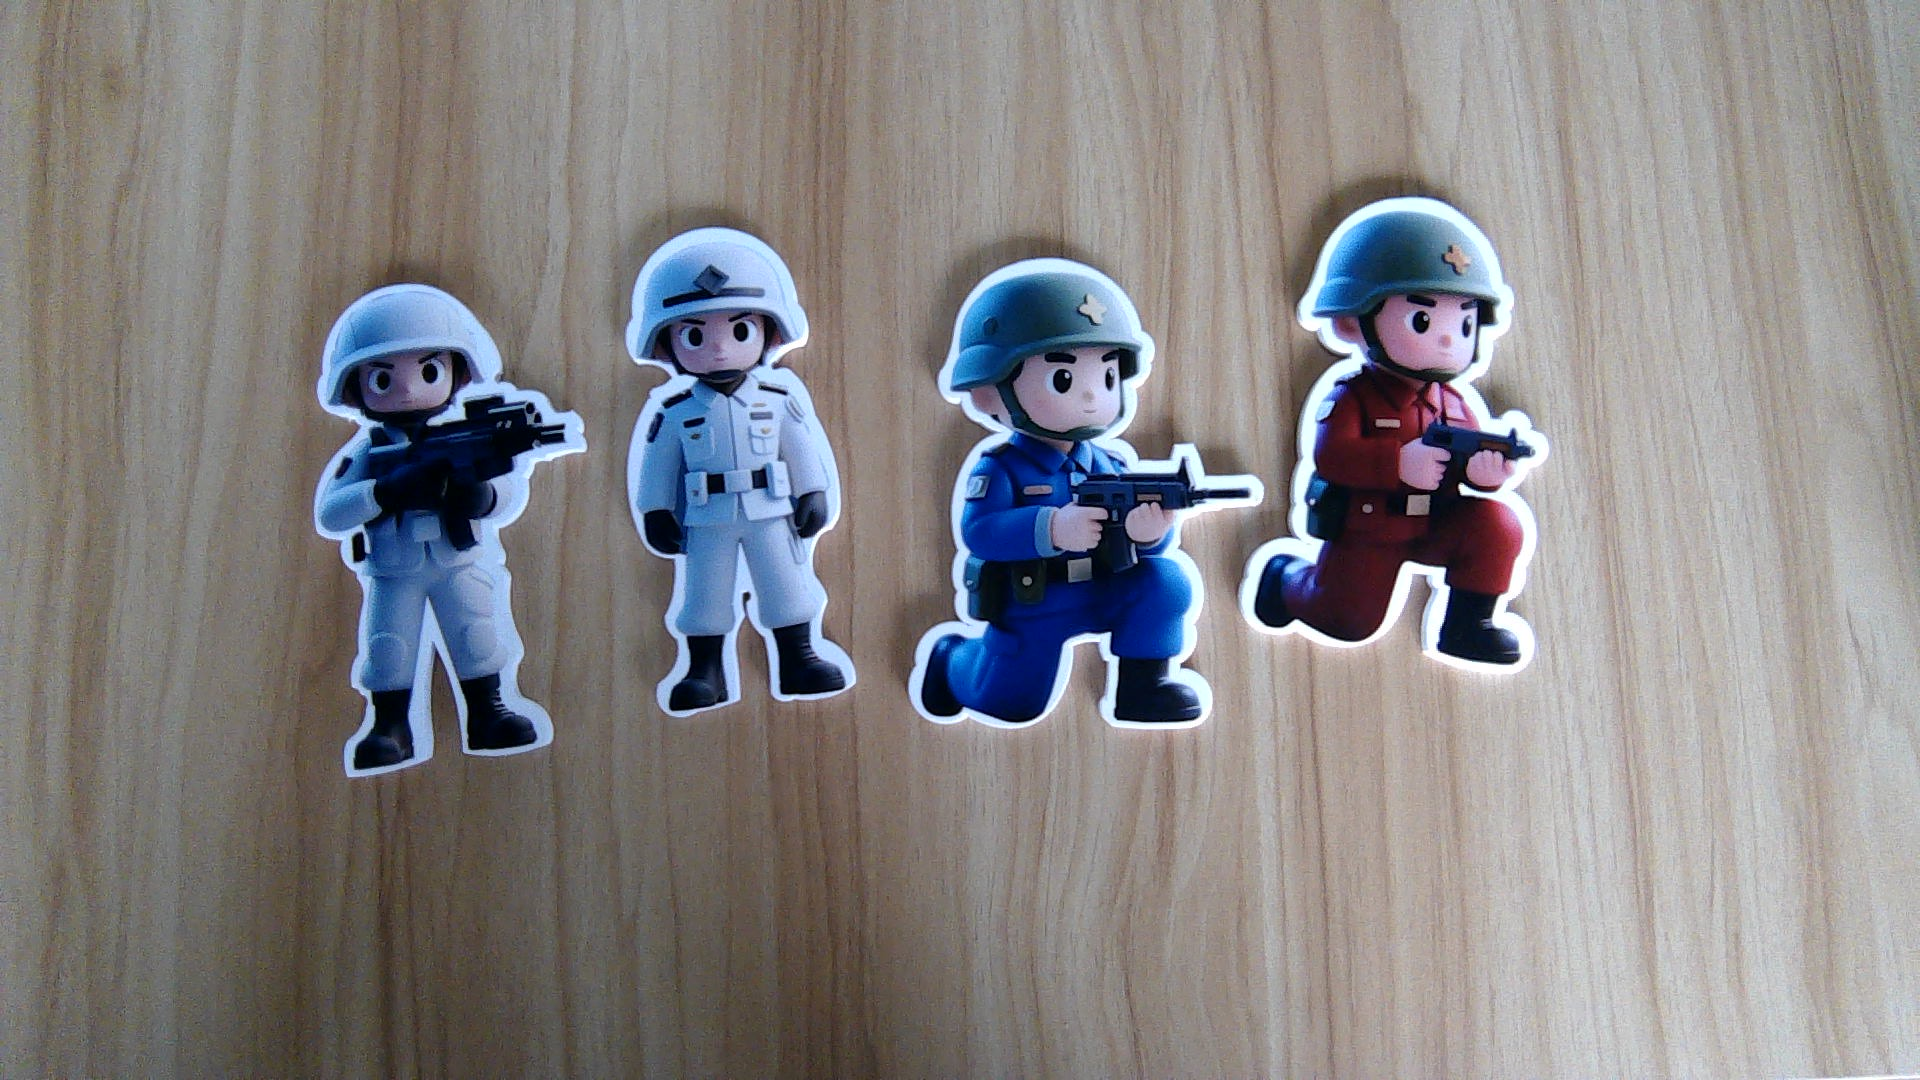人质: (302, 417, 589, 789), (620, 372, 862, 720)
敌人1: (1238, 384, 1549, 687)
敌人2: (905, 438, 1247, 738)
